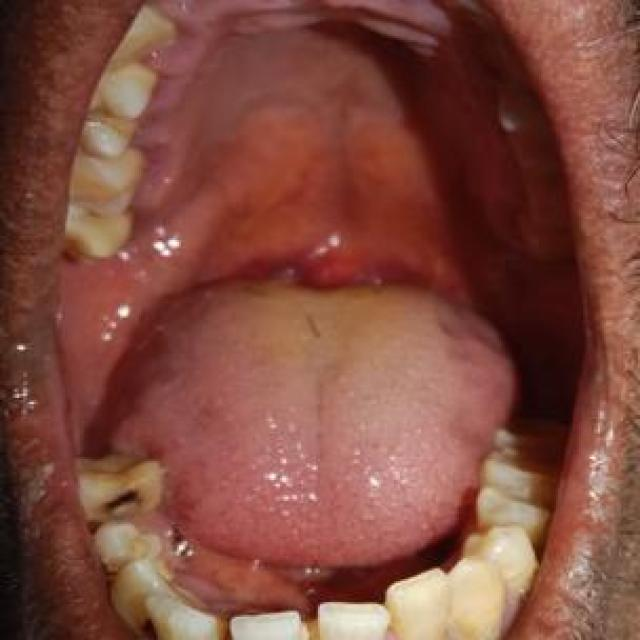processing_area: (60, 0, 519, 605)
